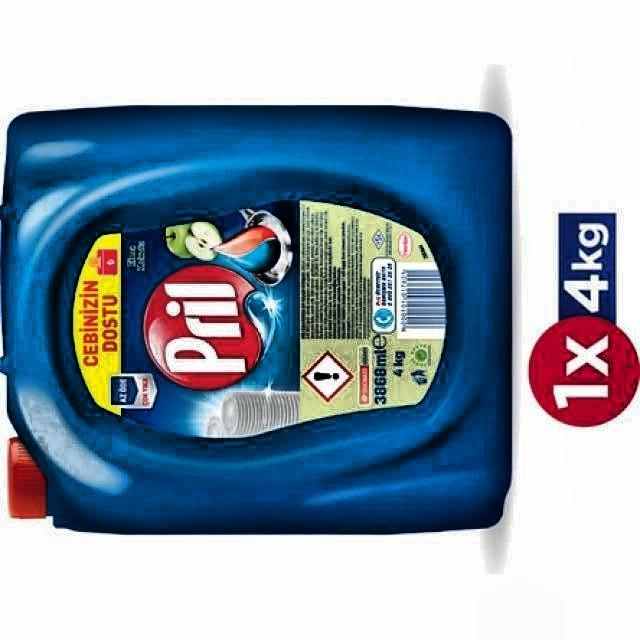plastic: (0, 106, 511, 532)
